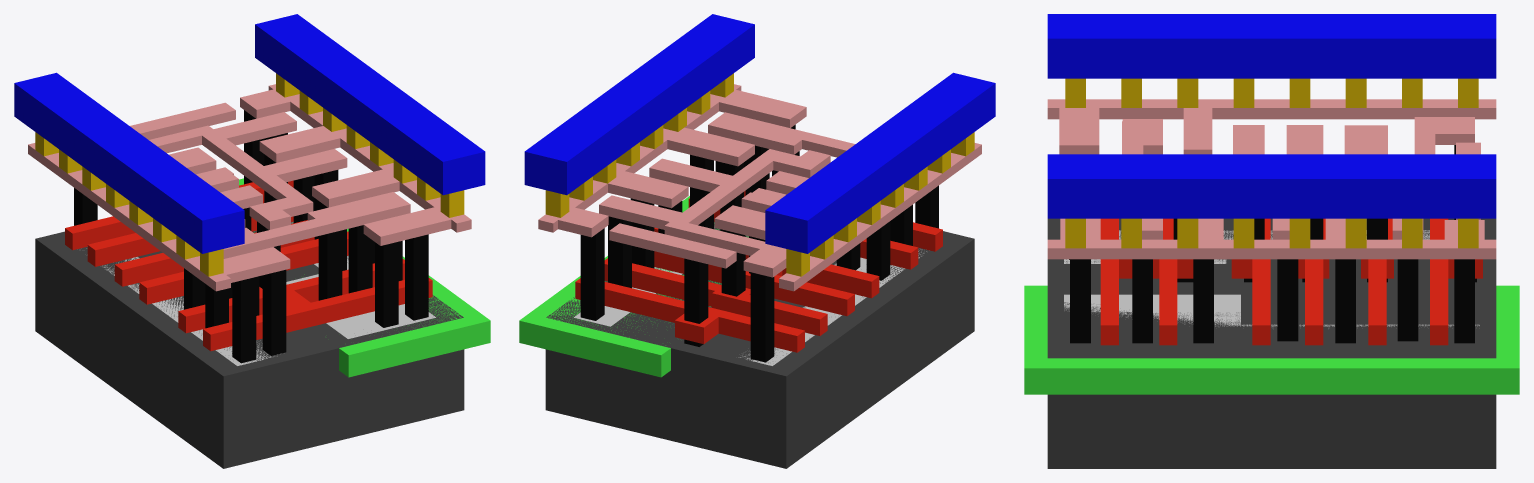
Rendered from sky130_fd_sc_hd__and4_2.obj.
3 views of the same model, side by side, from view 1: azimuth 30°, elevation 25°; view 2: azimuth 150°, elevation 25°; view 3: azimuth 270°, elevation 25° (orthographic). The views are drawn at different scales.
Parts seen in each view (by area): view 1: subs, metal1, li, licon, poly, nwell, mcon, tap, diff; view 2: subs, metal1, li, poly, licon, nwell, mcon, diff, tap; view 3: metal1, subs, li, nwell, licon, poly, mcon, tap.
Boxes of the visible parts, x1,y1,x2,y2 form: subs: [35, 222, 464, 468]; metal1: [14, 14, 485, 253]; li: [28, 84, 471, 291]; licon: [74, 110, 428, 363]; poly: [65, 180, 432, 351]; nwell: [239, 178, 490, 377]; mcon: [35, 73, 464, 276]; tap: [286, 222, 435, 338]; diff: [86, 248, 277, 365]; subs: [545, 222, 974, 468]; metal1: [524, 14, 995, 253]; li: [538, 84, 981, 291]; poly: [575, 190, 942, 352]; licon: [580, 124, 938, 362]; nwell: [519, 196, 748, 377]; mcon: [545, 73, 974, 276]; diff: [738, 249, 926, 365]; tap: [574, 227, 747, 326]; metal1: [1047, 14, 1496, 218]; subs: [1047, 218, 1496, 468]; li: [1047, 99, 1496, 259]; nwell: [1024, 285, 1519, 394]; licon: [1069, 145, 1476, 343]; poly: [1100, 218, 1482, 345]; mcon: [1065, 78, 1478, 248]; tap: [1064, 294, 1479, 328].
Bounding box in the file's own units: 3.2 × 2.74 × 4.06.
